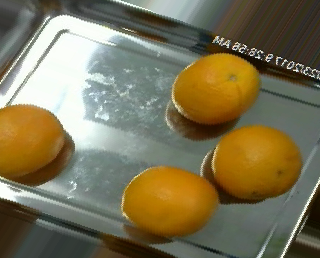Orange: (210, 123, 304, 199), (120, 165, 218, 237), (170, 52, 261, 124), (0, 103, 63, 178)
